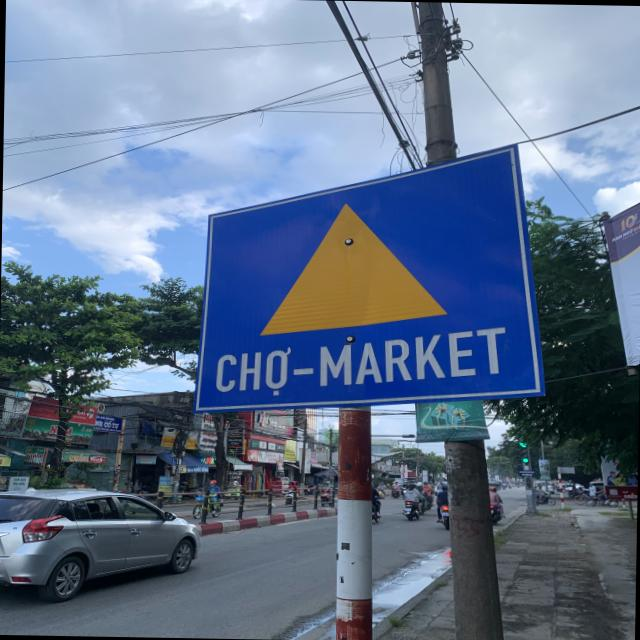Cho_Quay_Xe: (193, 134, 549, 414)
